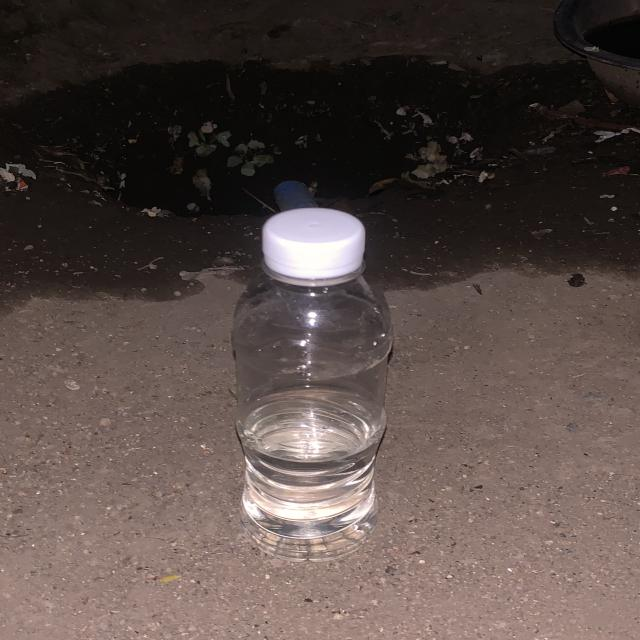Bottle: (231, 207, 394, 562)
